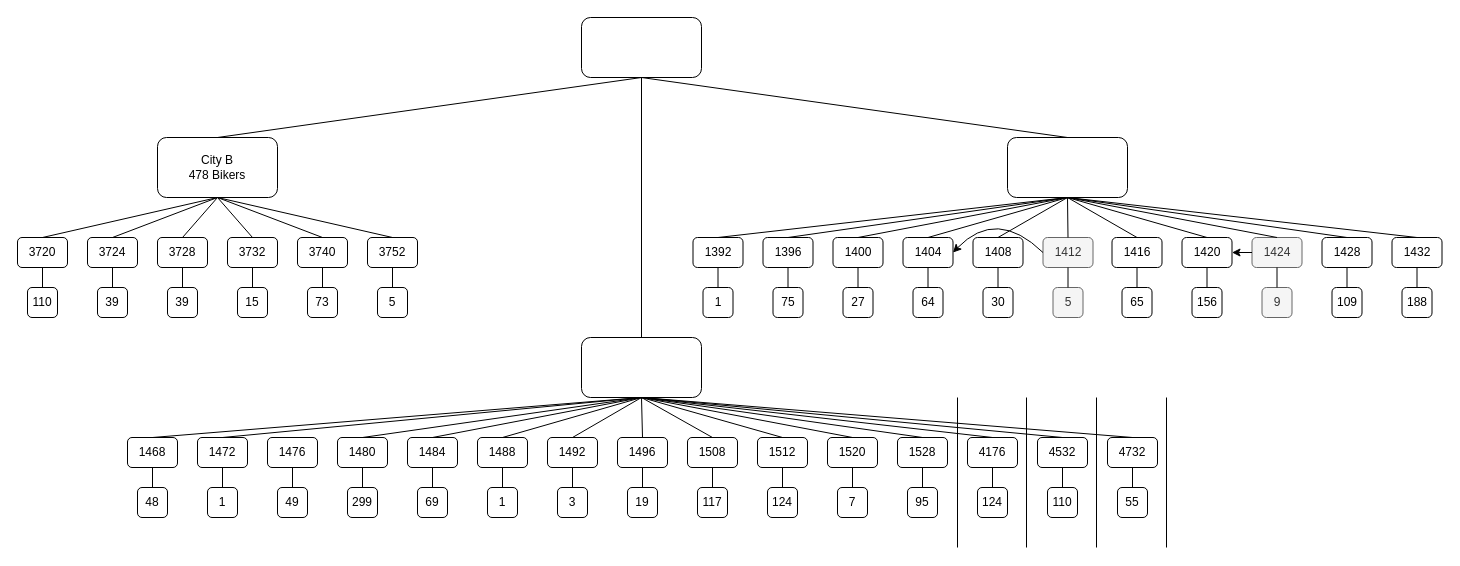
This 1460x566 diagram has some shape labels left out. The shapes that lost their labels are listed below. From the top down, each one's centre as x and y in pixels, then its label:
pixel 641 47: Region
pixel 1067 167: City U 1362 Bikers
pixel 641 367: City K 2458 Bikers
